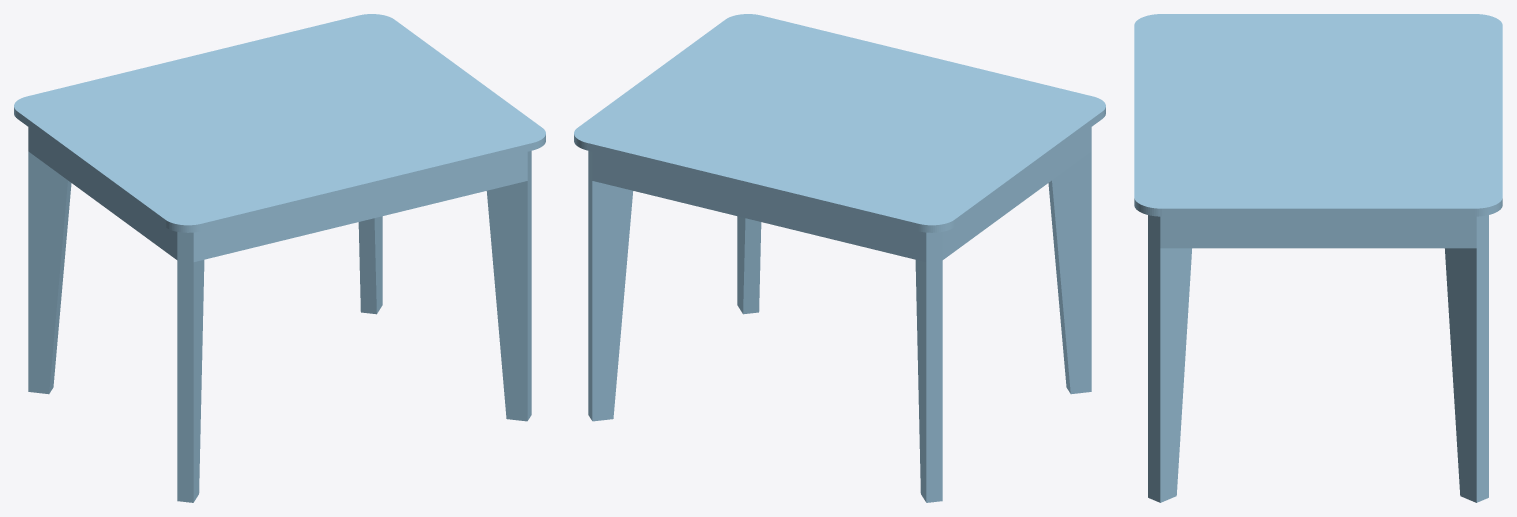
Rendered from wouldchuckit_Table_With_Tapered_Legs_and_Rounded_Corners.glb.
The picture shows the model from 3 angles, left to right: view 1: azimuth 30°, elevation 25°; view 2: azimuth 150°, elevation 25°; view 3: azimuth 270°, elevation 25°; orthographic projection. The views are drawn at different scales.
Parts seen in each view (by area): view 1: part-4, part-6, part-16, part-9, part-13, part-7, part-14, part-12, part-11, part-15; view 2: part-4, part-5, part-11, part-14, part-10, part-7, part-9, part-15, part-16, part-12; view 3: part-4, part-8, part-12, part-15, part-11, part-16.
Part boxes in pixels (<box>): part-4: <box>14,14,545,232</box>; part-6: <box>193,151,527,261</box>; part-16: <box>486,151,529,421</box>; part-9: <box>28,151,69,394</box>; part-13: <box>185,232,204,502</box>; part-7: <box>28,127,177,259</box>; part-14: <box>177,232,185,501</box>; part-12: <box>366,216,382,314</box>; part-11: <box>358,220,368,313</box>; part-15: <box>529,151,531,417</box>; part-4: <box>574,14,1105,232</box>; part-5: <box>592,151,926,261</box>; part-11: <box>590,151,633,421</box>; part-14: <box>1050,151,1091,394</box>; part-10: <box>915,232,934,502</box>; part-7: <box>942,127,1091,259</box>; part-9: <box>934,232,942,501</box>; part-15: <box>737,216,753,314</box>; part-16: <box>751,220,761,313</box>; part-12: <box>588,151,590,417</box>; part-4: <box>1134,14,1502,216</box>; part-8: <box>1160,216,1476,248</box>; part-12: <box>1445,216,1482,502</box>; part-15: <box>1154,216,1191,502</box>; part-11: <box>1482,215,1488,499</box>; part-16: <box>1148,215,1154,499</box>.
Bounding box in the file's own units: 1000 × 719 × 800.
